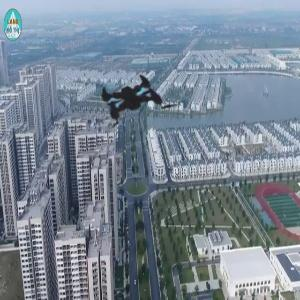drone: (62, 32, 206, 176)
